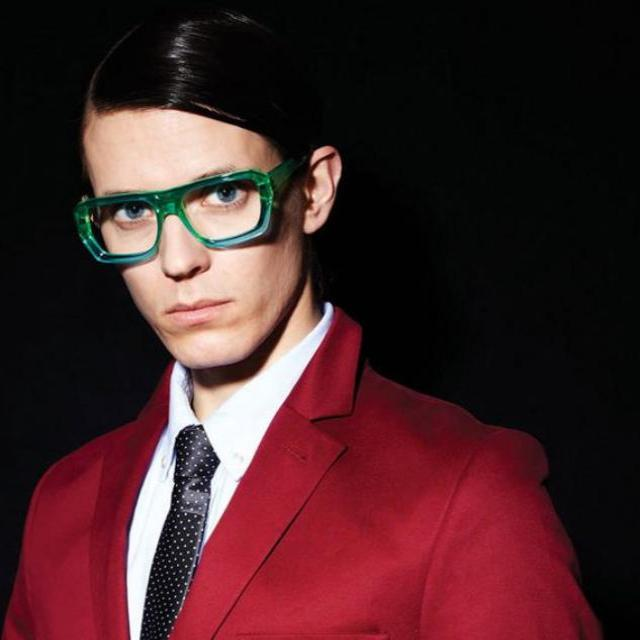glasses: (74, 158, 298, 264)
